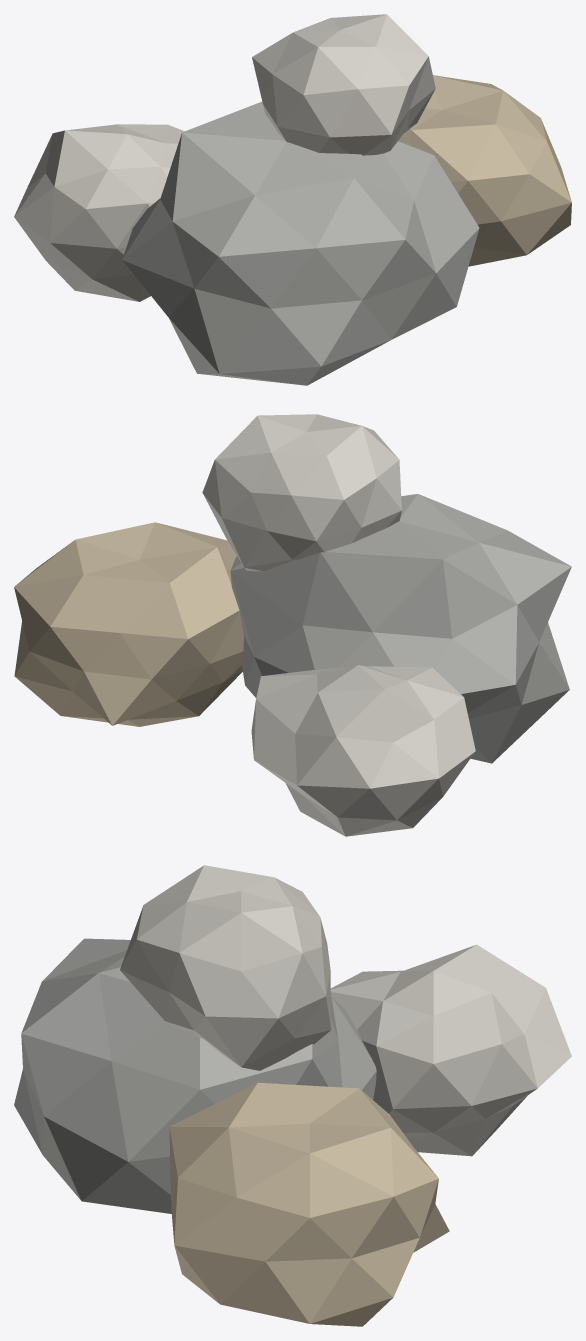
Rendered from piedra_recogible.glb.
3 renders of one model, top to bottom at view 1: azimuth 30°, elevation 25°; view 2: azimuth 150°, elevation 25°; view 3: azimuth 270°, elevation 25°, orthographic. The views are drawn at different scales.
Parts seen in each view (by area): view 1: piedra_recogible; view 2: piedra_recogible; view 3: piedra_recogible.
Part boxes in pixels (x1,y1,x2,y2): piedra_recogible: [14, 14, 571, 385]; piedra_recogible: [14, 414, 571, 836]; piedra_recogible: [14, 865, 571, 1326].
Bounding box in the file's own units: 0.462 × 0.2823 × 0.4065.
